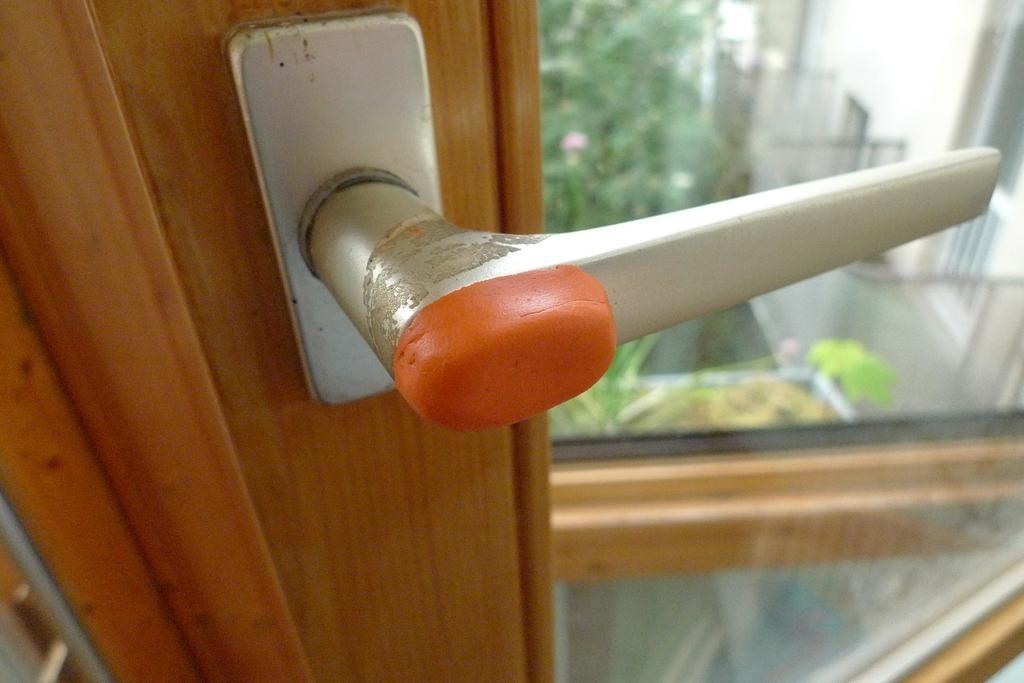handle: (313, 103, 995, 446)
